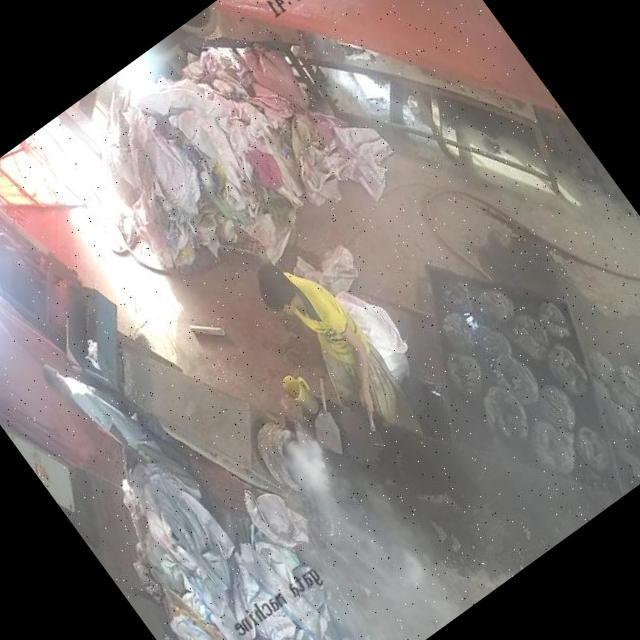person: (247, 238, 420, 448), (40, 334, 214, 542)
